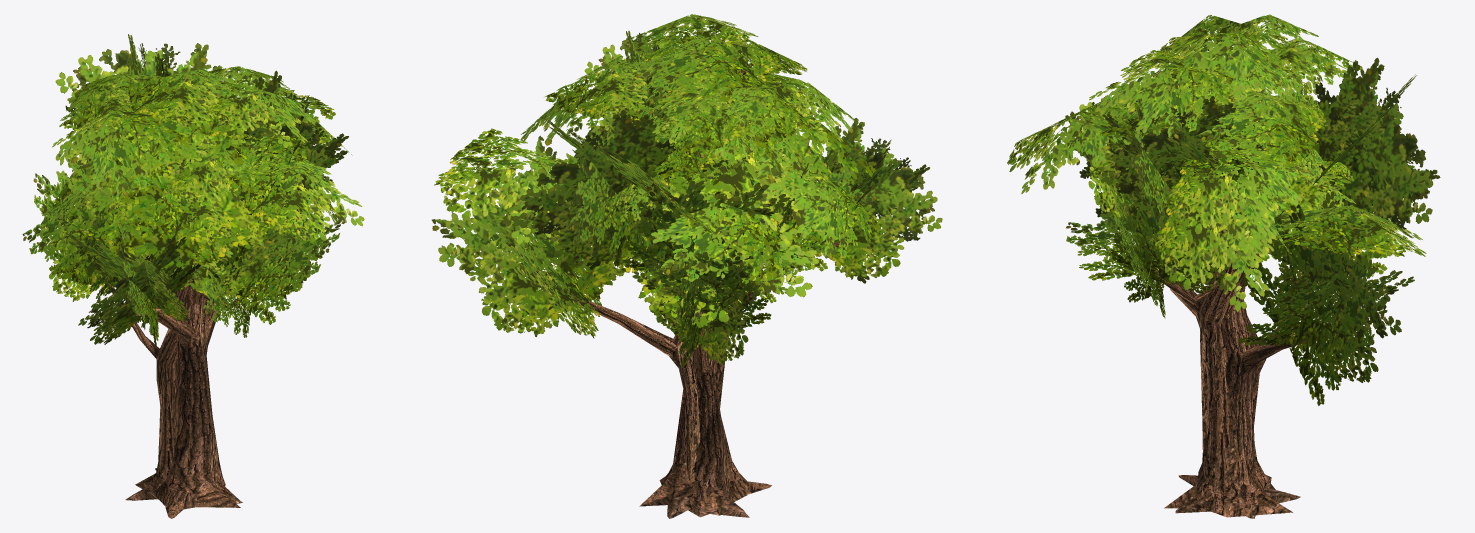
Rendered from tree_test.fbx.
3 views of the same model, side by side, from view 1: azimuth 30°, elevation 25°; view 2: azimuth 150°, elevation 25°; view 3: azimuth 270°, elevation 25° (orthographic). The views are drawn at different scales.
Visible parts, largest first — view 1: TreeBig, Tree_Wide, Tree_01; view 2: Tree_Wide, TreeBig, Tree_01; view 3: Tree_Wide, TreeBig, Tree_01.
Boxes of the visible parts, <box> form: TreeBig: <box>52,34,348,509</box>; Tree_Wide: <box>22,66,364,518</box>; Tree_01: <box>33,110,345,500</box>; Tree_Wide: <box>431,14,880,518</box>; TreeBig: <box>512,29,942,515</box>; Tree_01: <box>574,86,877,517</box>; Tree_Wide: <box>1007,33,1426,513</box>; TreeBig: <box>1065,14,1440,517</box>; Tree_01: <box>1066,72,1413,518</box>.
Size of the model in its own units: 10.02 by 10.89 by 9.77.
